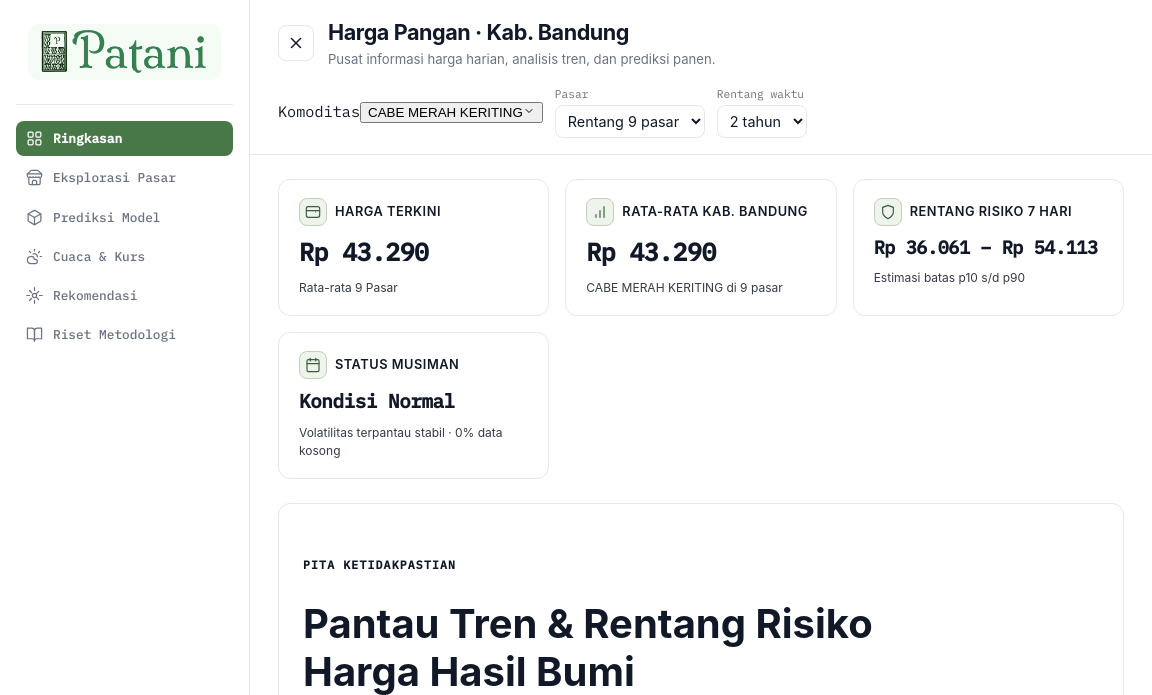
Test: picker popover: radiogroup + chip radio; timeline node punya aria-label
The width and height of the screenshot is (1152, 695).
Click the button named "Komoditas:": click(451, 113) [360,102,543,123]
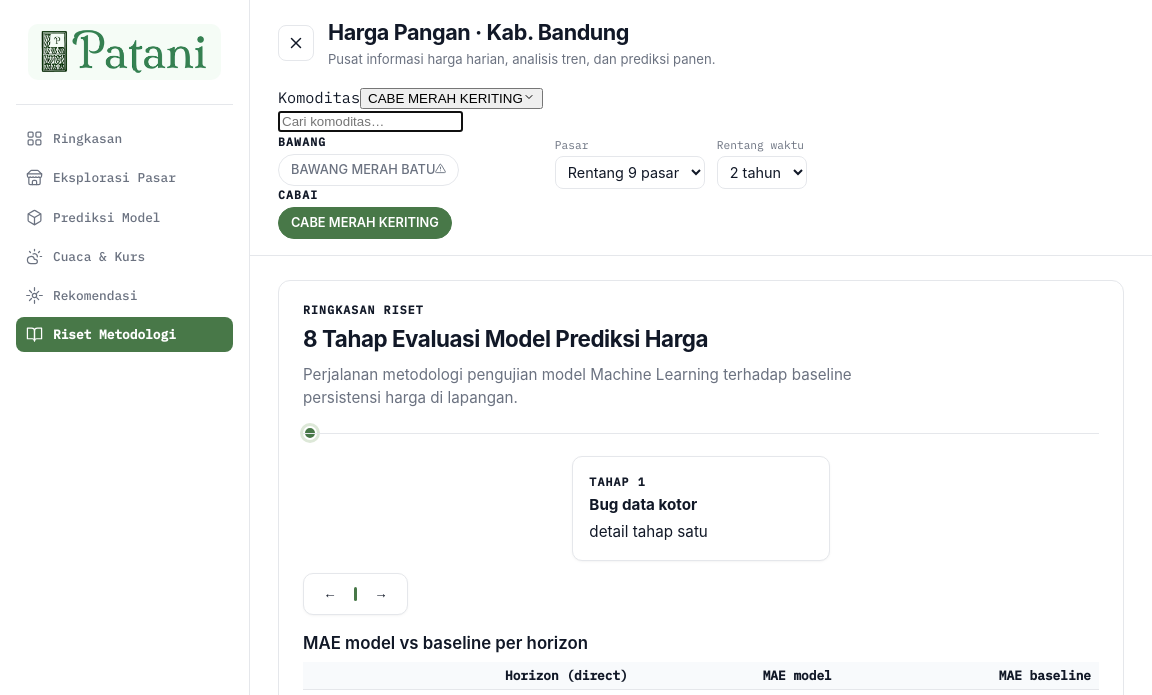
Result: the element named "komoditas" is shown at [278,134,459,239]
Result: the radio button labelled "BAWANG MERAH BATU" is shown at [278,154,459,186]
